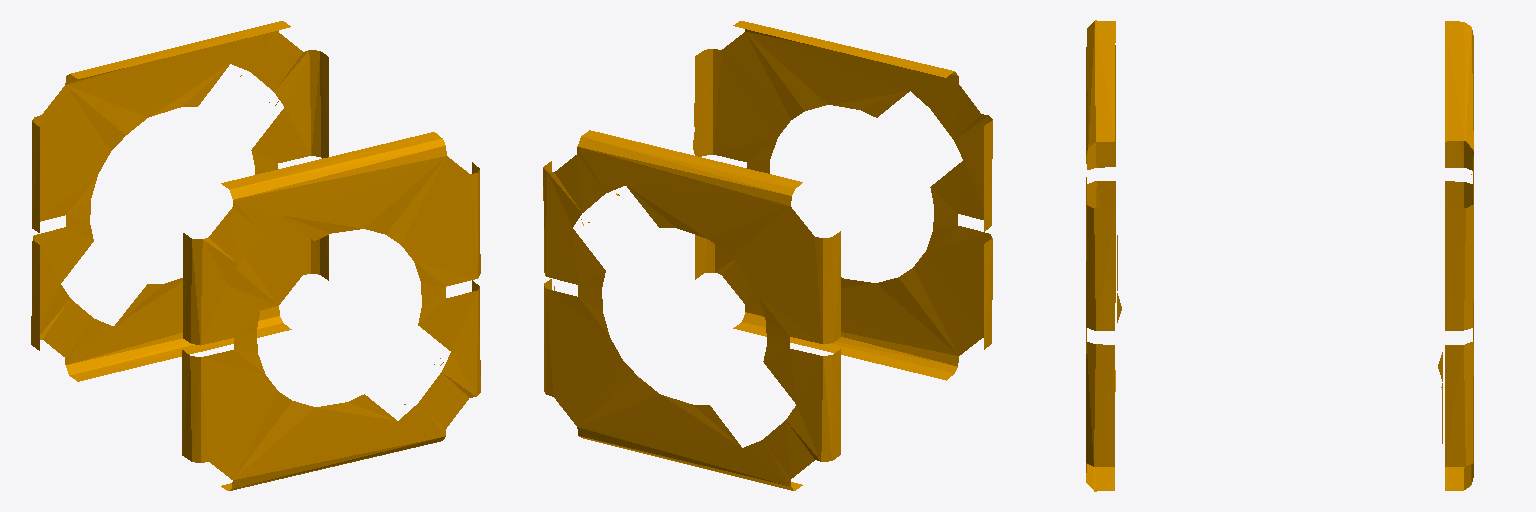
robot.urdf — astrobee:
<?xml version="1.0"?>

<!-- Copyright (c) 2017, United States Government, as represented by the     -->
<!-- Administrator of the National Aeronautics and Space Administration.     -->
<!--                                                                         -->
<!-- All rights reserved.                                                    -->
<!--                                                                         -->
<!-- The Astrobee platform is licensed under the Apache License, Version 2.0 -->
<!-- (the "License"); you may not use this file except in compliance with    -->
<!-- the License. You may obtain a copy of the License at                    -->
<!--                                                                         -->
<!--     http://www.apache.org/licenses/LICENSE-2.0                          -->
<!--                                                                         -->
<!-- Unless required by applicable law or agreed to in writing, software     -->
<!-- distributed under the License is distributed on an "AS IS" BASIS,       -->
<!-- WITHOUT WARRANTIES OR CONDITIONS OF ANY KIND, either express or         -->
<!-- implied. See the License for the specific language governing            -->
<!-- permissions and limitations under the License.                          -->

<robot name="astrobee" xmlns:xacro="http://www.ros.org/wiki/xacro">


  <!-- BASE GEOMETRY -->
 <link name="body">
    <self_collide>false</self_collide>
    <!-- body -->
    <visual name="body_visual">
      <origin xyz="0 0 0" rpy="0 0 0" />
      <geometry>
        <mesh filename="package://astrobee_freeflyer/meshes/body.dae"/>
      </geometry>
    </visual>
    <collision name="body_collision">
      <origin xyz="-0.000794 0.000229 -0.003907" rpy="0 0 0" />
      <geometry>
        <box size="0.290513 0.151942 0.281129" />
      </geometry>
    </collision>
    <!-- port pmc -->
    <visual name="pmc_port_visual">
      <origin xyz="0 0 0" rpy="0 0 0" />
      <geometry>
        <mesh filename="package://astrobee_freeflyer/meshes/pmc.dae"/>
      </geometry>
    </visual>
    <visual name="pmc_port_bumper_visual">
      <origin xyz="0 0 0" rpy="0 0 0" />
      <geometry>
        <mesh filename="package://astrobee_freeflyer/meshes/pmc_bumper.dae"/>
      </geometry>
    </visual>
    <visual name="pmc_port_skin_visual">
      <origin xyz="0 0 0" rpy="0 0 0" />
      <geometry>
        <mesh filename="package://astrobee_freeflyer/meshes/pmc_skin_bumble.dae"/>
      </geometry>
    </visual>
    <collision name="pmc_port_collision">
      <origin xyz="0 -0.117546 0" rpy="0 0 0" />
      <geometry>
        <box size="0.319199 0.083962 0.319588" />
      </geometry>
    </collision>
    <!-- starboard pmc -->
    <visual name="pmc_stbd_visual">
      <origin xyz="0 0 0" rpy="0 3.14 3.14" />
      <geometry>
        <mesh filename="package://astrobee_freeflyer/meshes/pmc.dae"/>
      </geometry>
    </visual>
    <visual name="pmc_stbd_bumper_visual">
      <origin xyz="0 0 0" rpy="0 3.14 3.14" />
      <geometry>
        <mesh filename="package://astrobee_freeflyer/meshes/pmc_bumper.dae"/>
      </geometry>
    </visual>
    <visual name="pmc_stbd_skin_visual">
      <origin xyz="0 0 0" rpy="0 3.14 3.14" />
      <geometry>
        <mesh filename="package://astrobee_freeflyer/meshes/pmc_skin_bumble.dae"/>
      </geometry>
    </visual>
    <collision name="pmc_stbd_collision">
      <origin xyz="0 0.117546 0" rpy="0 0 0" />
      <geometry>
        <box size="0.319199 0.083962 0.319588" />
      </geometry>
    </collision>
  </link>

</robot>

--- Facts derived from the render (not from the file) ---
3 views of the same robot in one strip: view 1: azimuth 30°, elevation 25°; view 2: azimuth 150°, elevation 25°; view 3: azimuth 270°, elevation 25° (orthographic).
Model astrobee with 1 links and 0 joints (none), rooted at body, posed every joint at zero.
Links seen in each view (by area): view 1: body; view 2: body; view 3: body.
Link boxes in pixels (x1,y1,x2,y2): body: [31, 21, 480, 490]; body: [543, 21, 992, 490]; body: [1086, 20, 1473, 491].
Size in the robot's own frame: 0.2948 by 0.2957 by 0.2944 metres.
Meshes: 4 distinct files referenced, 2 mesh visuals loaded (1 Collada DAE); not drawn: 5 (reference not matched to a file when rendering).